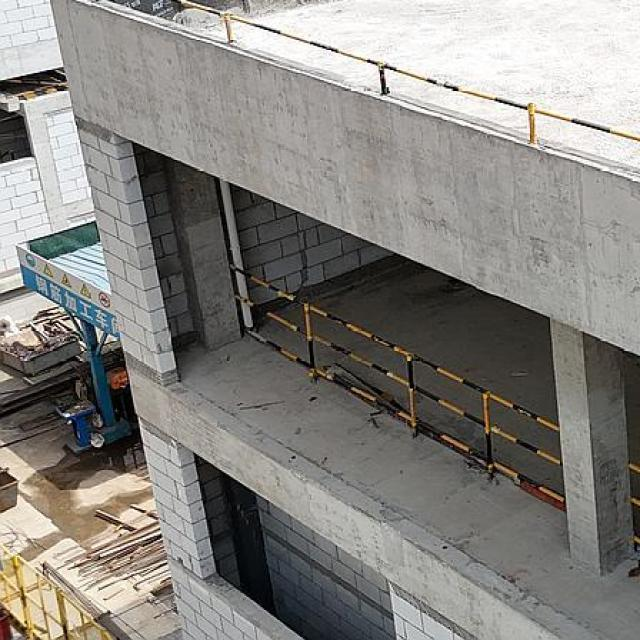Guardrail: (228, 263, 565, 514), (173, 0, 640, 147)
